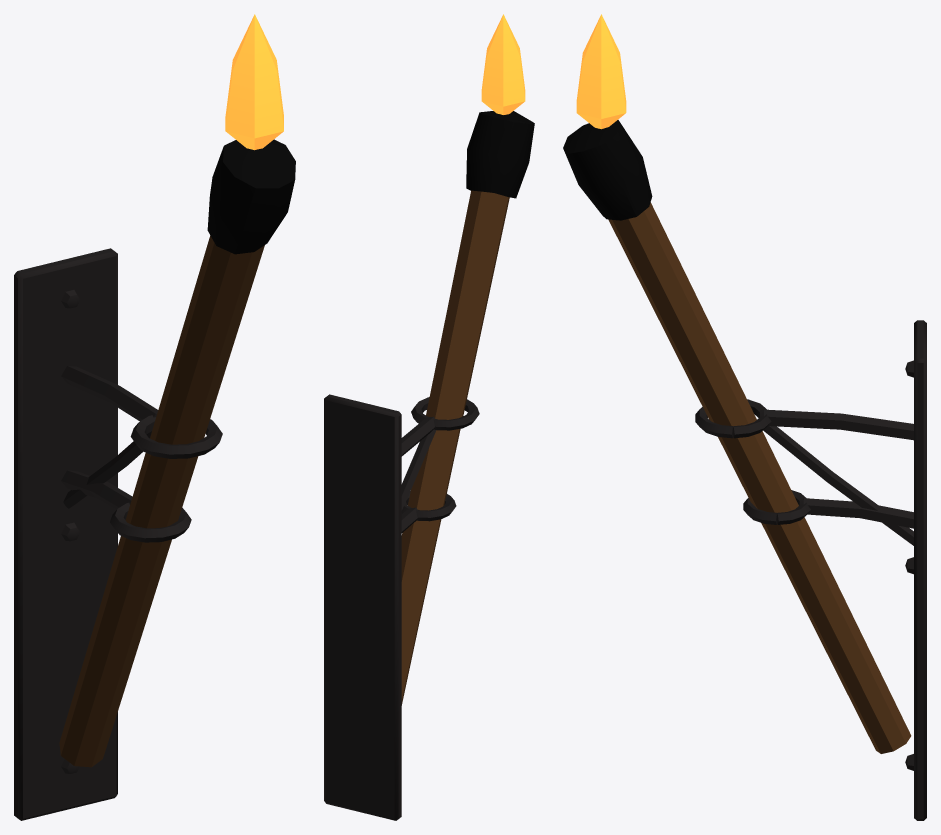
File: wandfackel.glb
3 renders of one model, left to right at view 1: azimuth 30°, elevation 25°; view 2: azimuth 150°, elevation 25°; view 3: azimuth 270°, elevation 25°, orthographic. The views are drawn at different scales.
Parts seen in each view (by area): view 1: wandfackel; view 2: wandfackel; view 3: wandfackel.
Boxes of the visible parts, left/top/right/bottom form: wandfackel: left=14, top=14, right=295, bottom=820; wandfackel: left=324, top=14, right=534, bottom=820; wandfackel: left=563, top=14, right=926, bottom=820.
Bounding box in the file's own units: 0.09 × 0.801 × 0.3354.
